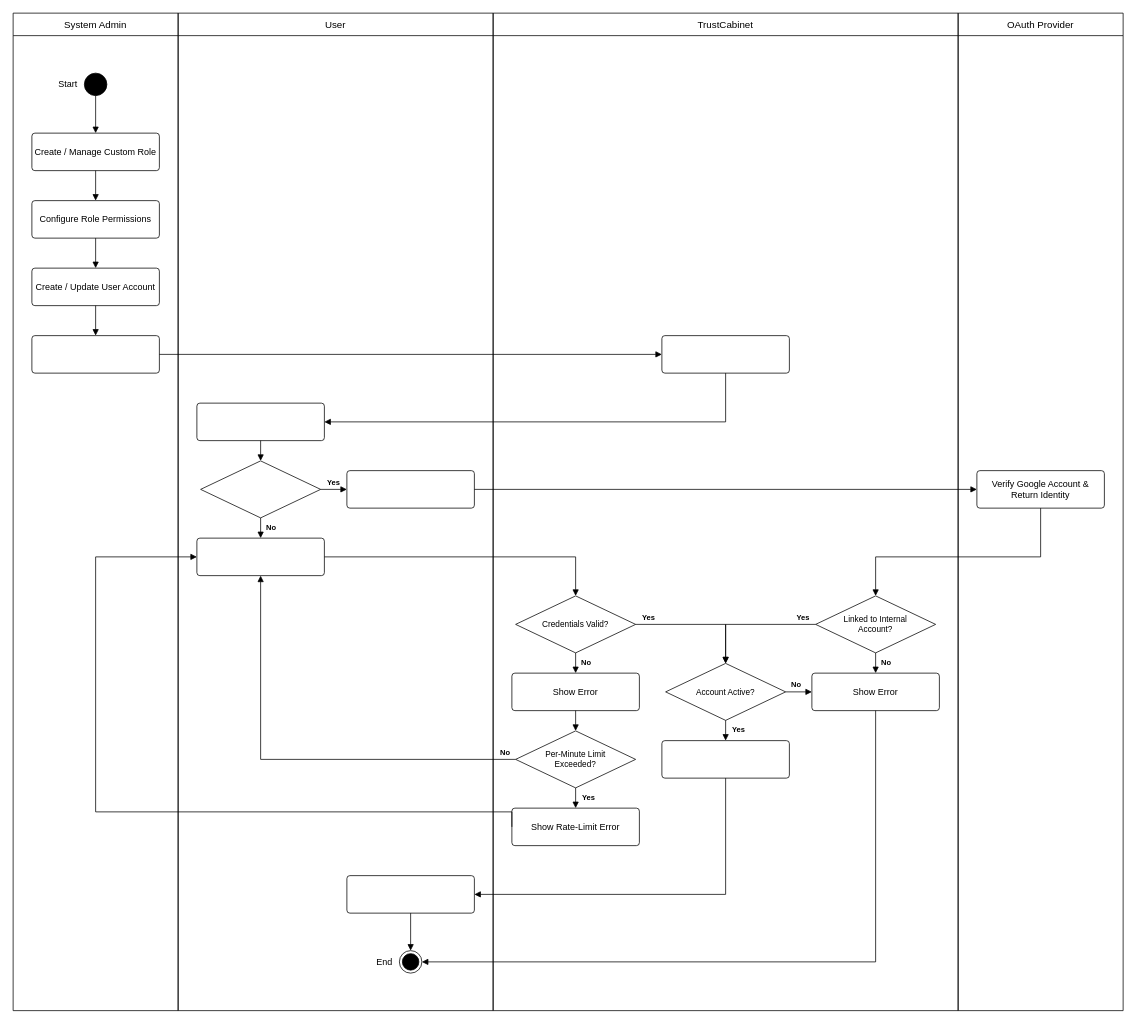
This 1136x1024 diagram has some shape labels left out. Each missing label, with the centre of its shape:
Access Permitted Functions: the point at 410,894
Assign System Role: the point at 95,354
Enter Email & Password: the point at 260,556
Open TrustCabinet: the point at 260,421
Save Changes & Write Audit Log: the point at 725,354
Select Google Sign-In: the point at 410,489
Sign In & Load Role Permissions: the point at 725,759
Sign in with Google?: the point at 260,489
